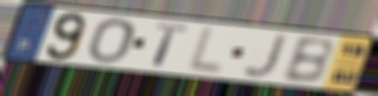9: (43, 11, 91, 62)
B: (279, 36, 336, 85)
J: (241, 33, 292, 79)
L: (184, 25, 227, 76)
O: (86, 17, 137, 65)
T: (150, 22, 191, 69)
